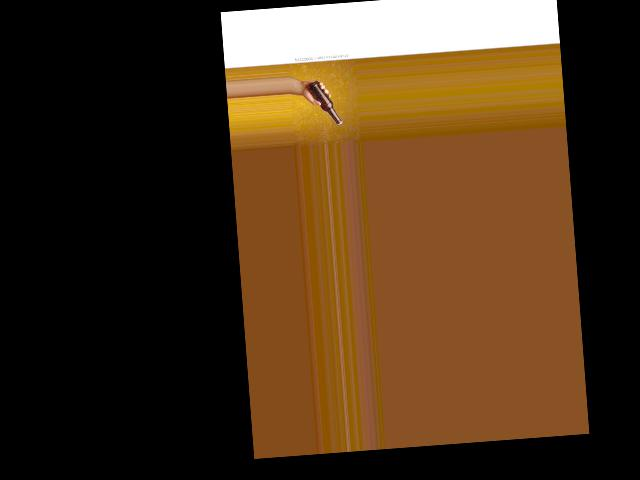beer: (305, 78, 342, 127)
